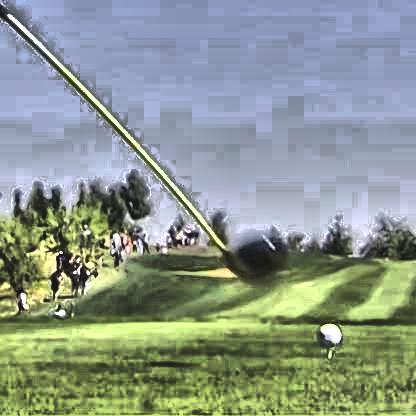golfball: (313, 320, 338, 344)
